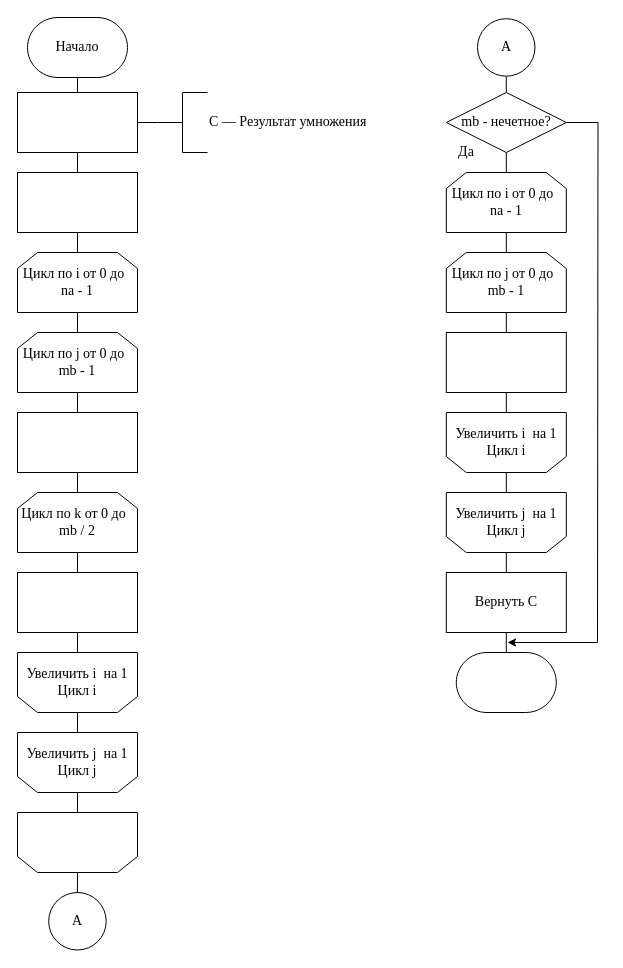
The diagram is 623 pixels wide and 968 high, and some of its shapes have lost their labels. Here are the shapes that lost their labels. From the top down, the centre of each, then its label:
At point 77,122: "Матрицы A na, ma B nb, mb С na, m b".
At point 77,202: "Создание и инициалзиация rf, cf (разность соседних эл. строк и столбцов)".
At point 505,362: "С i,j = С i,j + A i, ma-1 * B ma-1, j".
At point 77,442: "C i,j -= rf[i] + cf[j]".
At point 77,602: "Сi,j = Сi,j + (A i,2k + 1 + B 2k, j ) * (A i, 2k + B 2k + 1, j )".
At point 505,682: "Конец".
At point 77,842: "Увеличить k на 1 Цикл k".
